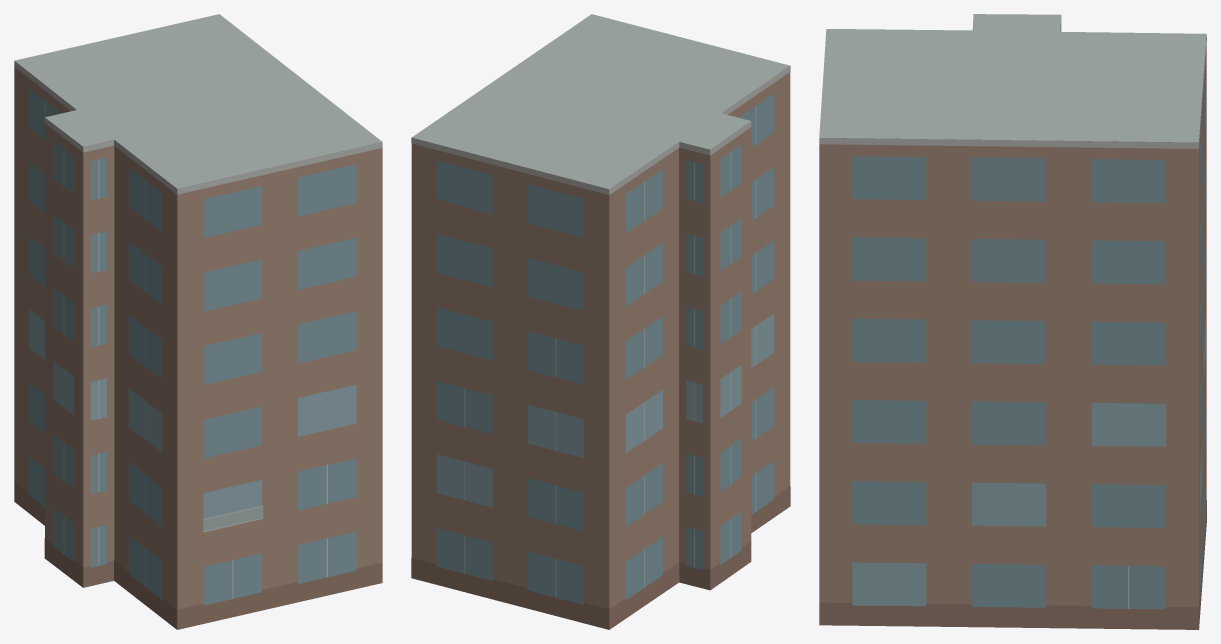
The model's file is survey-upis-32877755.glb.
3 views of the same model, side by side, from view 1: azimuth 30°, elevation 25°; view 2: azimuth 150°, elevation 25°; view 3: azimuth 270°, elevation 25° (orthographic). The views are drawn at different scales.
Visible parts, largest first — view 1: survey-upis-32877755.tmp; view 2: survey-upis-32877755.tmp; view 3: survey-upis-32877755.tmp.
Part boxes in pixels (x1,y1,x2,y2): survey-upis-32877755.tmp: (14,14,382,629); survey-upis-32877755.tmp: (411,14,790,629); survey-upis-32877755.tmp: (819,14,1206,629).
Bounding box in the file's own units: 10.35 × 18.3 × 13.2.
